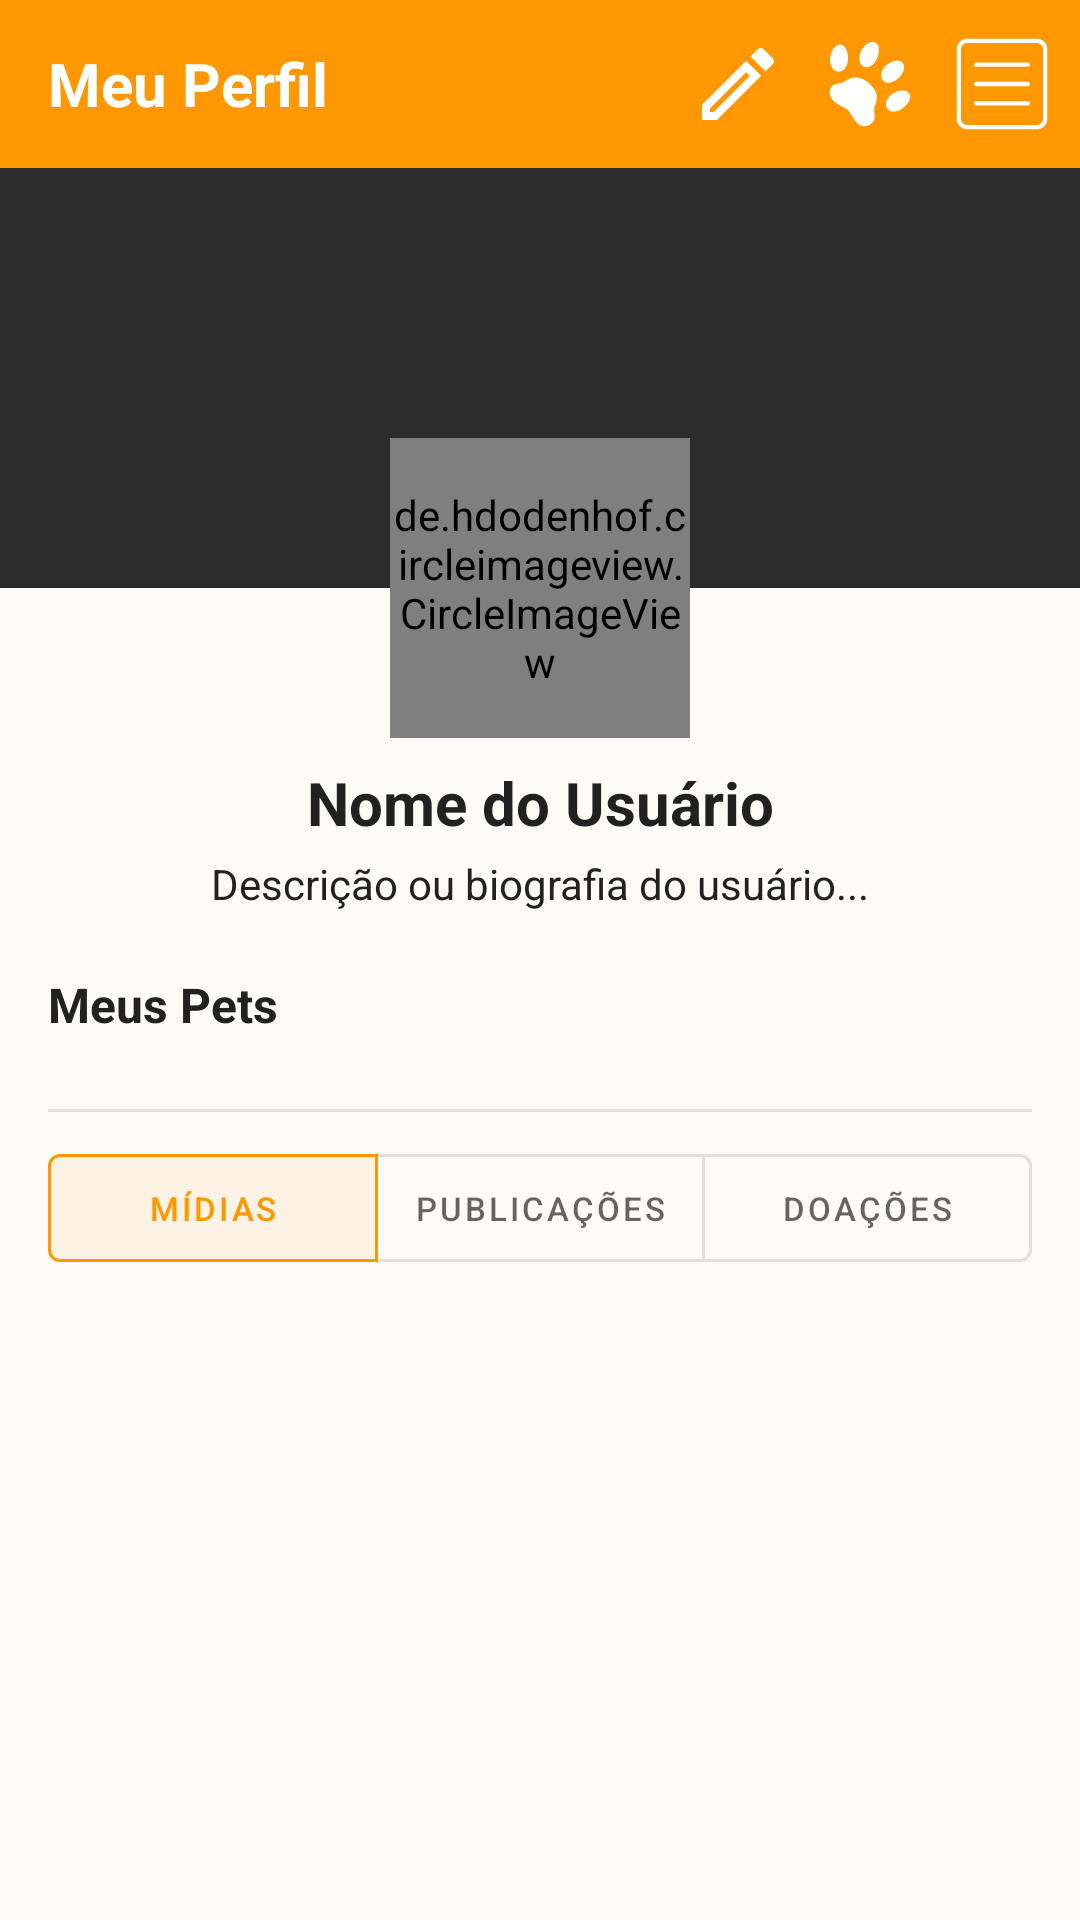

Named icons in this screenshot (1080px x 1920px) and their centers, (x=x, y=y):
create: (x=738, y=84)
menu: (x=1002, y=84)
